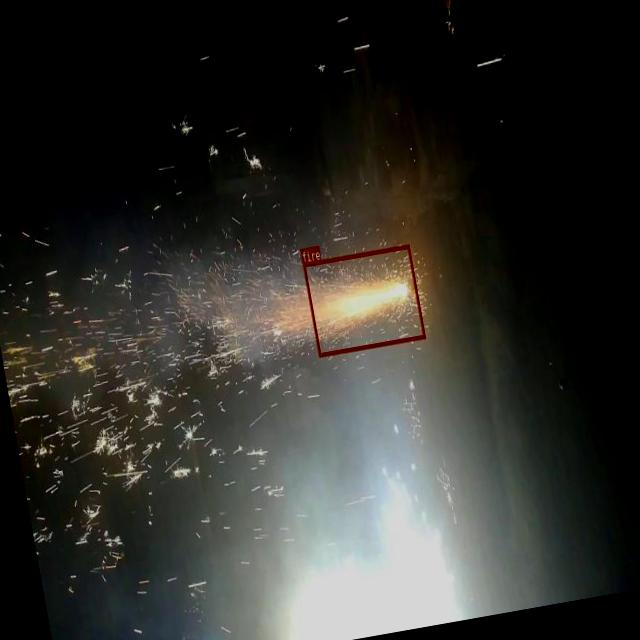fire: (302, 243, 424, 356)
